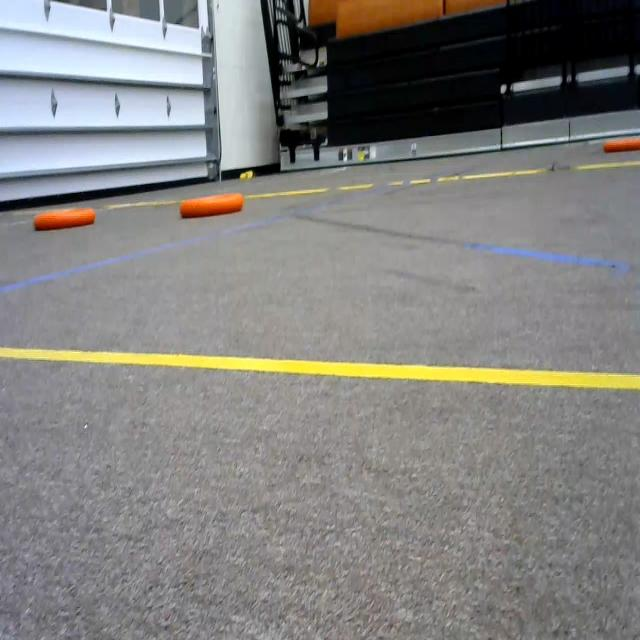note: (27, 201, 96, 238), (180, 189, 242, 228), (603, 133, 640, 155)
